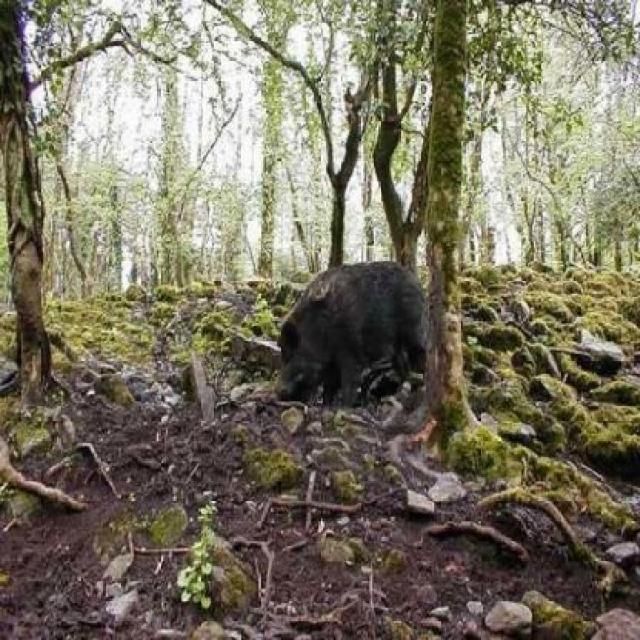Boar: (268, 177, 487, 449)
